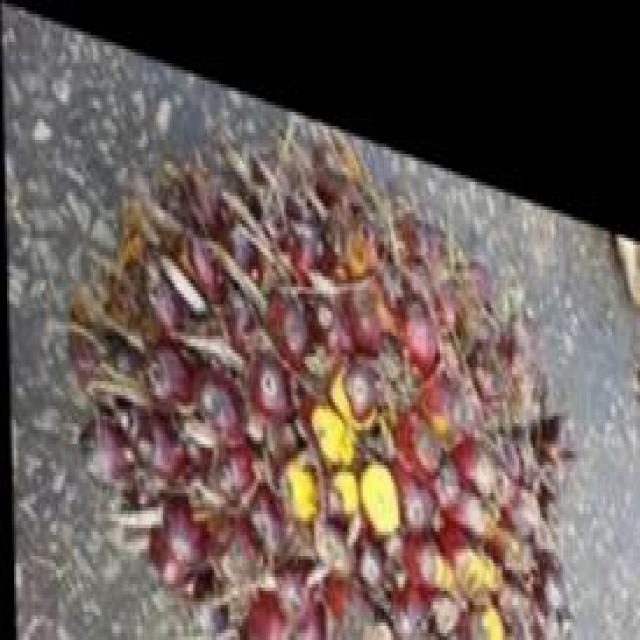Ripefruit: (63, 31, 577, 640)
